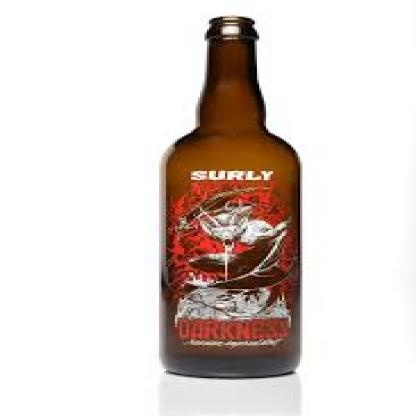trash: (162, 17, 299, 376)
